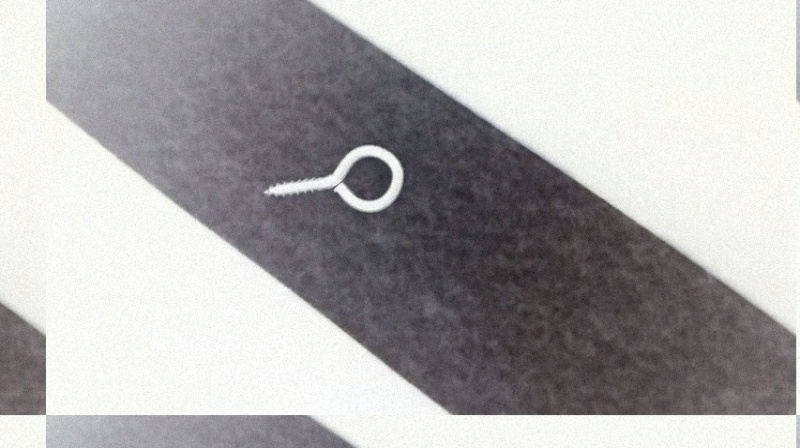O001: (261, 142, 405, 213)
